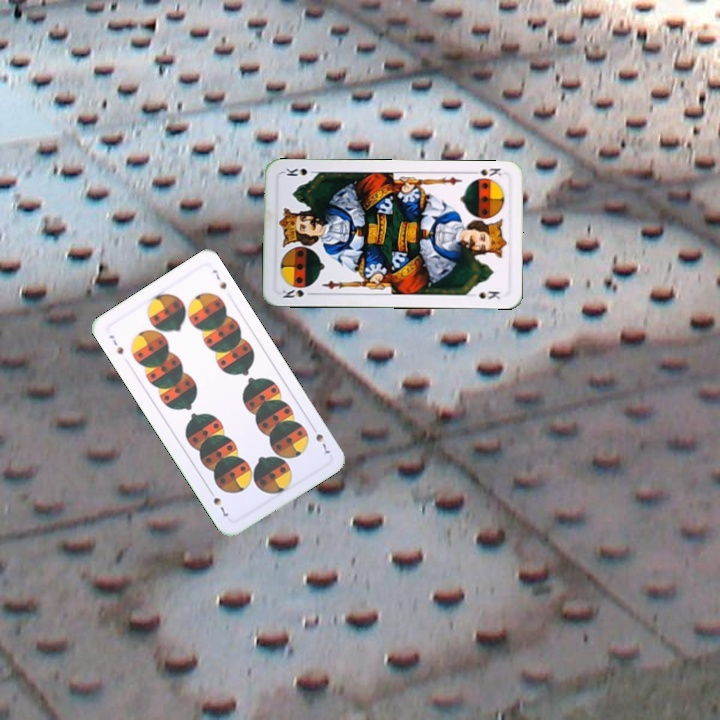S7: (307, 421, 333, 457), (105, 331, 126, 357)
SK: (467, 164, 504, 180), (278, 285, 317, 300)
